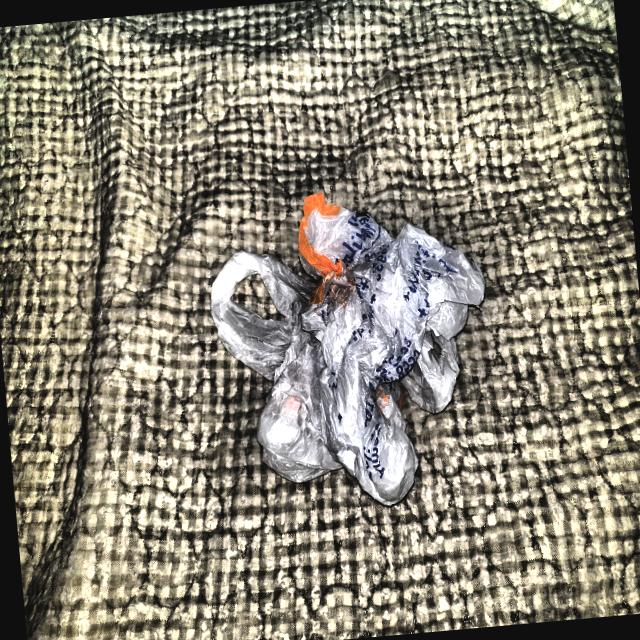plastic bag: (187, 165, 514, 536)
